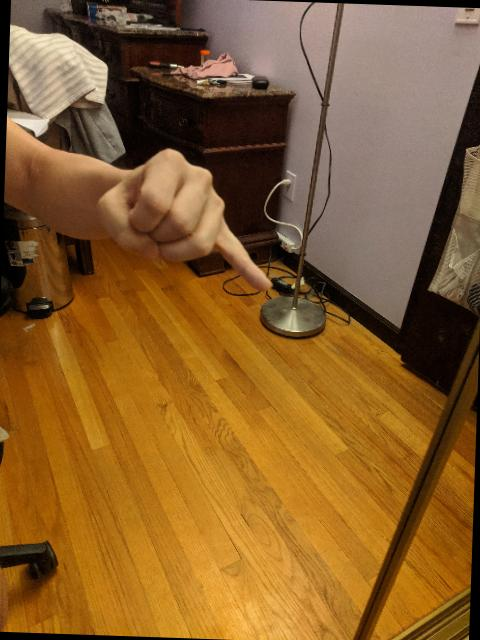J: (89, 140, 284, 298)
